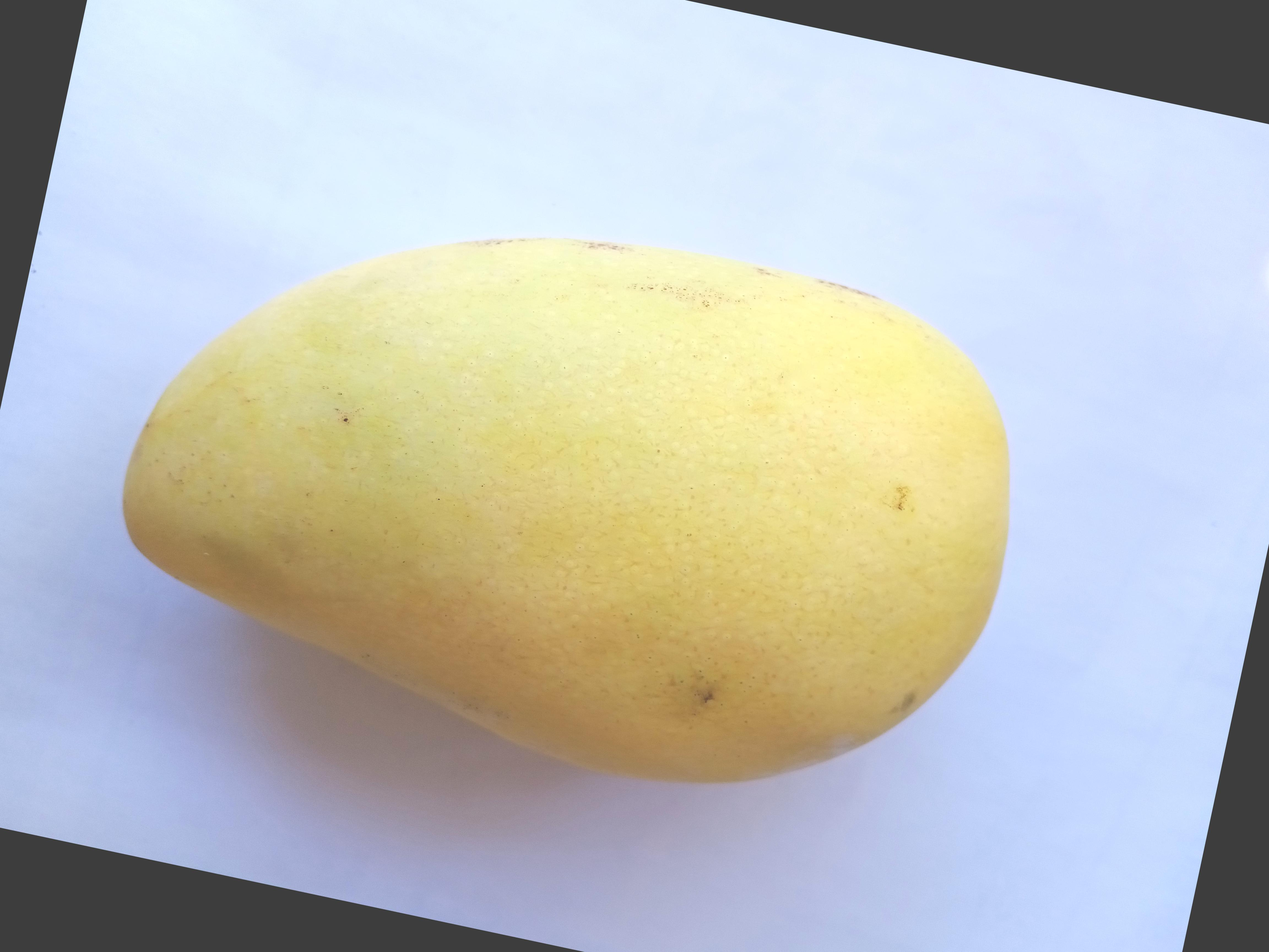Mango Ripe: (154, 0, 1259, 745)
